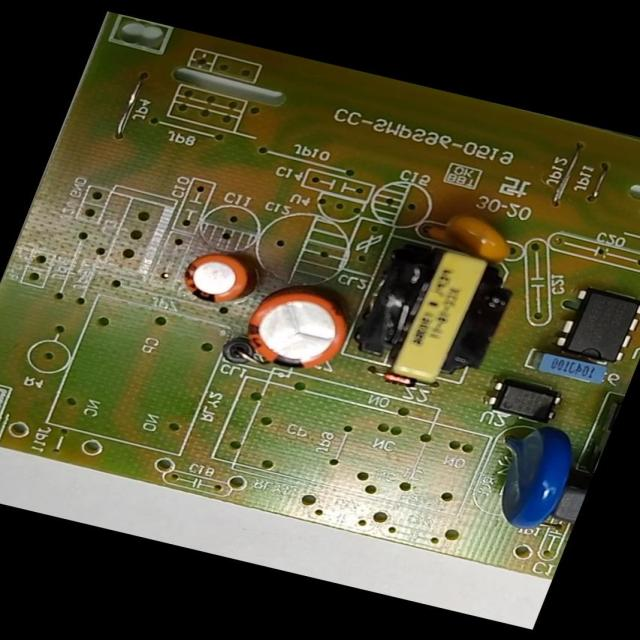Cap1: (233, 274, 368, 381)
Cap2: (167, 238, 274, 316)
MOSFET: (548, 281, 640, 367)
Mov: (466, 416, 590, 538)
Transformer: (344, 228, 531, 397)
